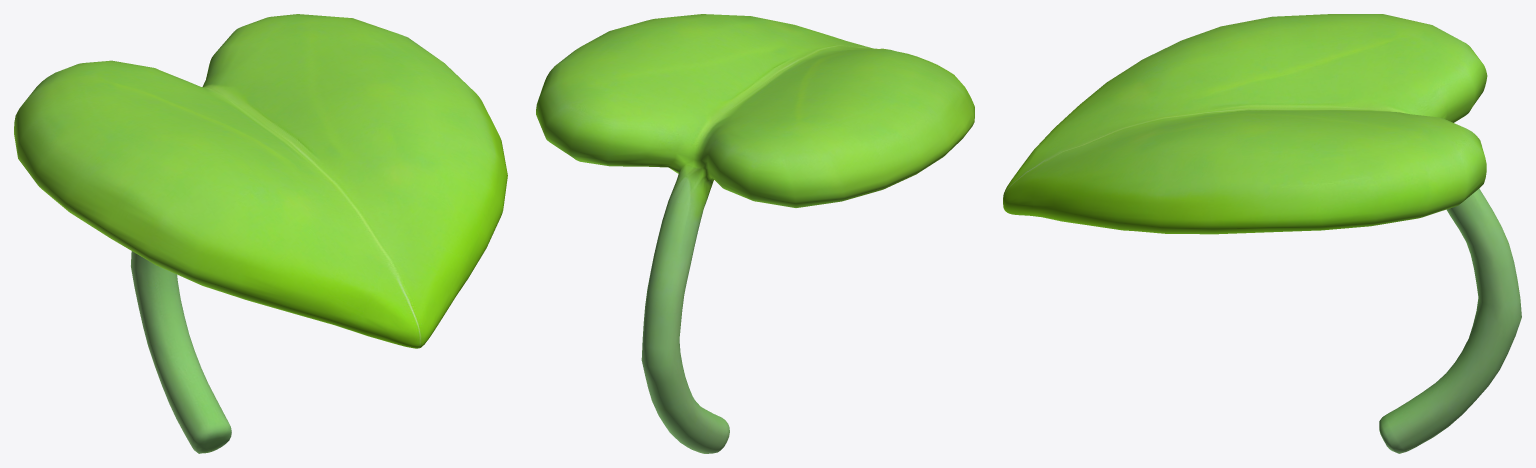
Rendered from heart_lime_2672_0.glb.
The picture shows the model from 3 angles, left to right: view 1: azimuth 30°, elevation 25°; view 2: azimuth 150°, elevation 25°; view 3: azimuth 270°, elevation 25°; orthographic projection. The views are drawn at different scales.
Size of the model in its own units: 1.71 by 1.57 by 2.
Materials: 1 (1 with a texture image).
